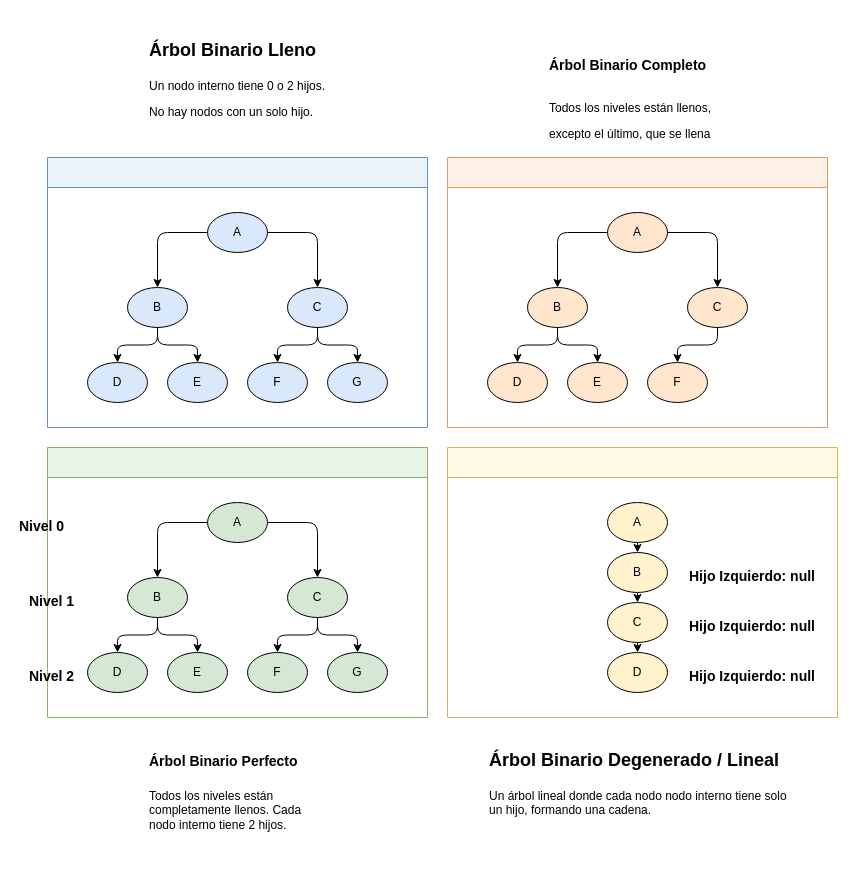
This 855x877 diagram has some shape labels left out. Each missing label, with the box of its shape:
Sección 1: Árbol Lleno: (46, 156, 428, 428)
Sección 2: Árbol Completo: (446, 156, 828, 428)
Sección 3: Árbol Perfecto: (46, 446, 428, 718)
Sección 4: Árbol Degenerado: (446, 446, 838, 718)
